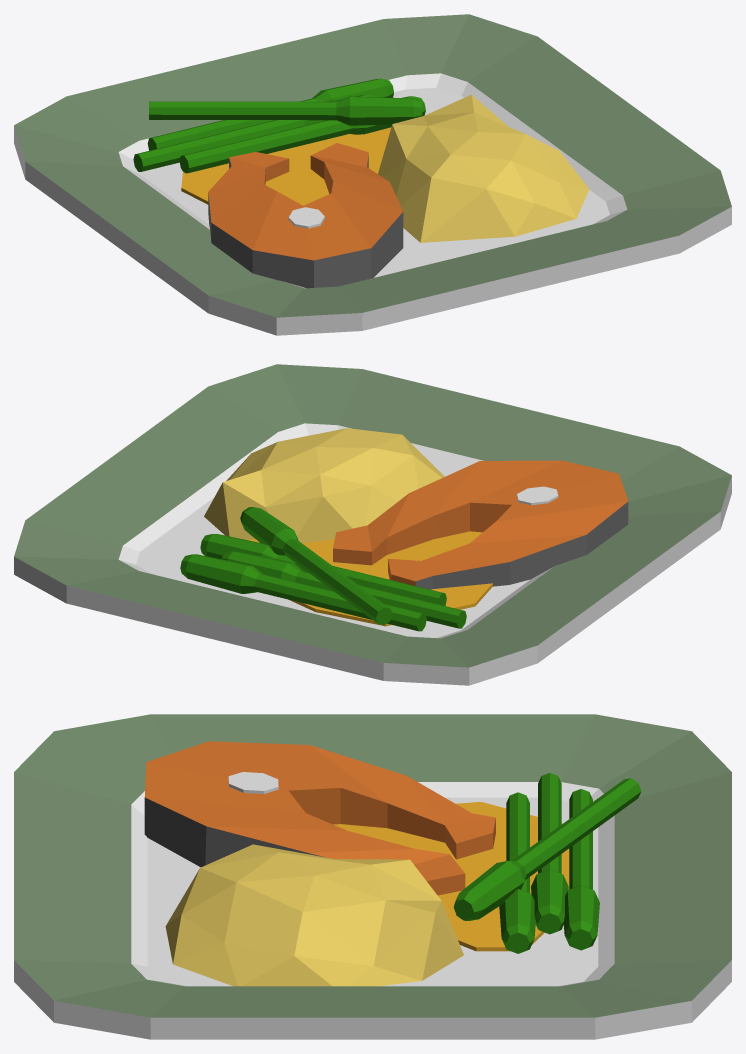
File: R_Dish_2.fbx
The picture shows the model from 3 angles, top to bottom: view 1: azimuth 30°, elevation 25°; view 2: azimuth 150°, elevation 25°; view 3: azimuth 270°, elevation 25°; orthographic projection. The views are drawn at different scales.
Parts seen in each view (by area): view 1: R_Dish_2; view 2: R_Dish_2; view 3: R_Dish_2.
Boxes of the visible parts, bbox=[...] form: R_Dish_2: bbox=[14, 14, 731, 335]; R_Dish_2: bbox=[14, 364, 731, 685]; R_Dish_2: bbox=[14, 714, 731, 1039].
Size of the model in its own units: 200 by 200 by 28.48.
